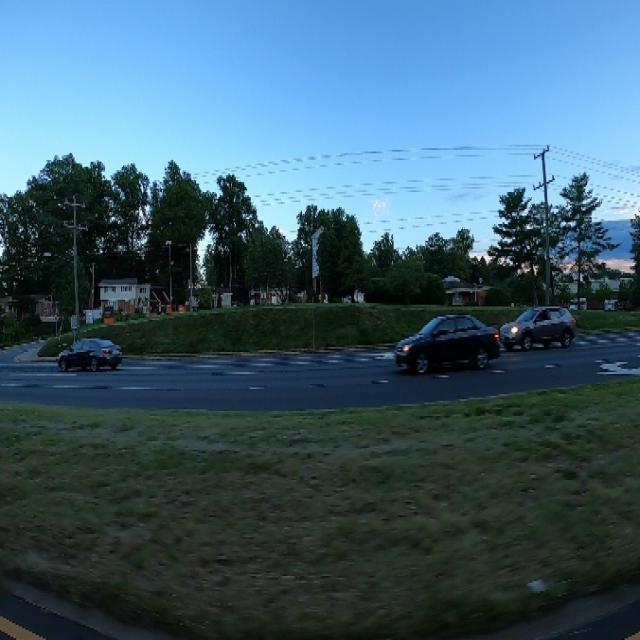car: (393, 303, 500, 376), (53, 323, 127, 381), (506, 300, 577, 355)
